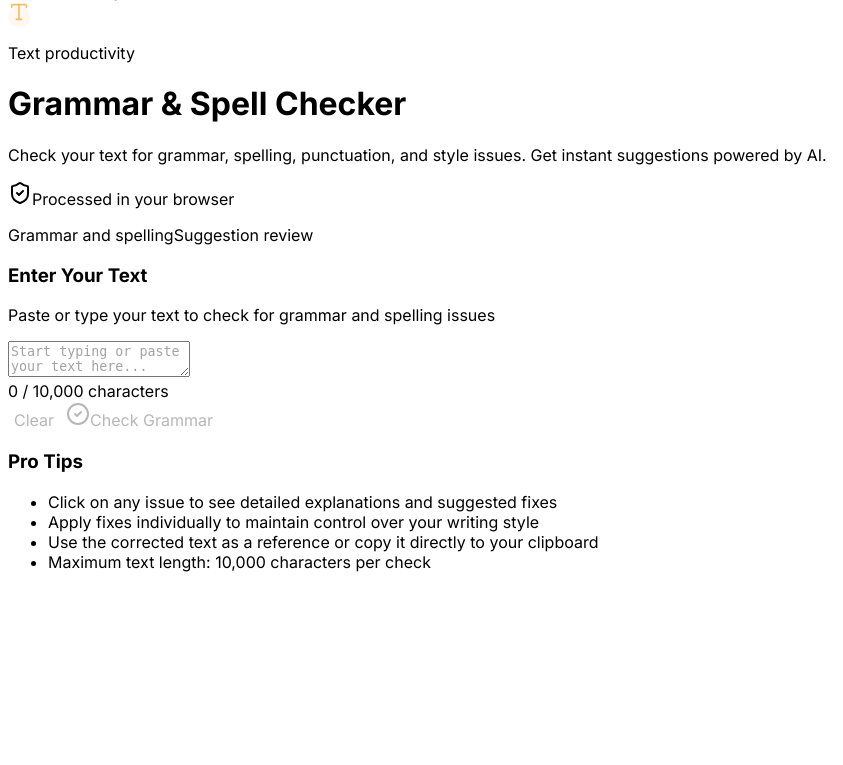
Test case: Grammar Checker Page › Grammar Check › shows corrected text section when issues exist
In the text box with placeholder "Start typing or paste your text here...": (99, 359) [8, 341, 190, 377], type "teh cat"
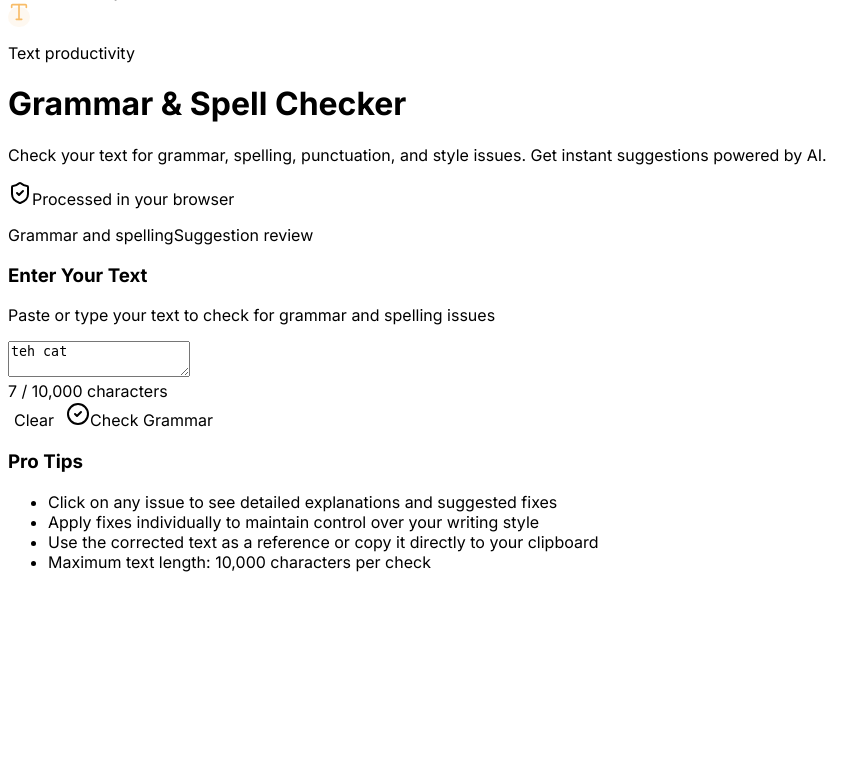
Click the button "Check Grammar": (140, 416) [60, 401, 219, 431]
(page scrolled)
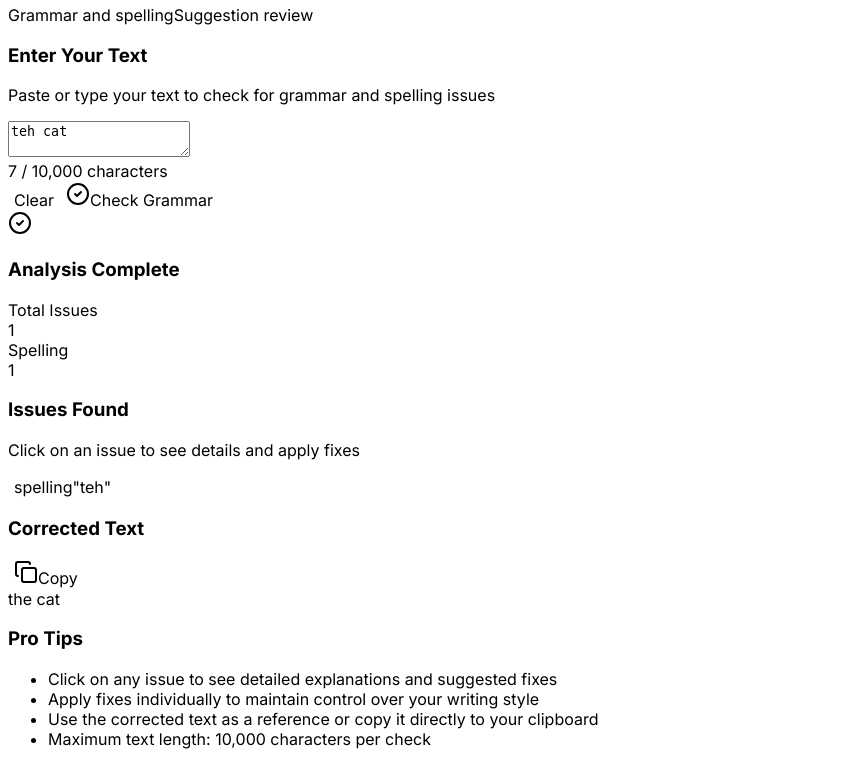
Now the heading "Corrected Text" is shown, box [8, 517, 144, 540]
Now the text "the cat" is shown, box [8, 589, 60, 609]
